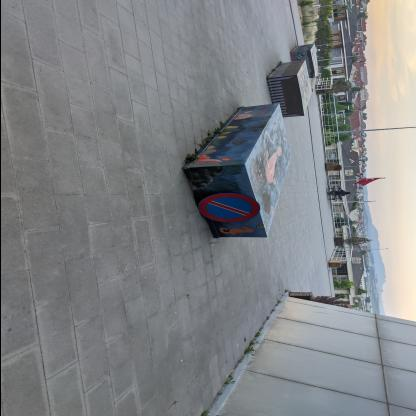No Waiting: (197, 194, 261, 224)
